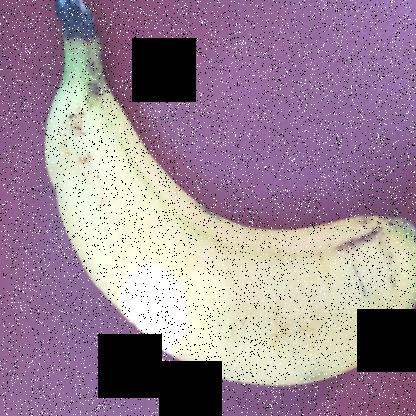freshripe: (34, 77, 416, 395)
